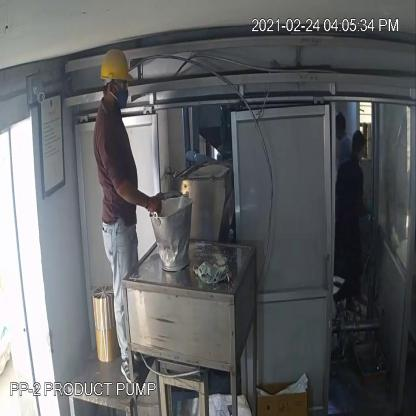helmet: (98, 46, 131, 86)
